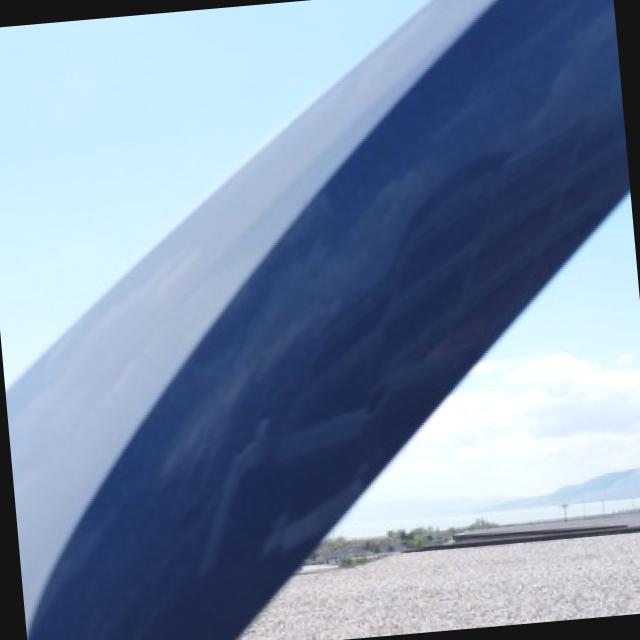healthy: (5, 0, 628, 640)
